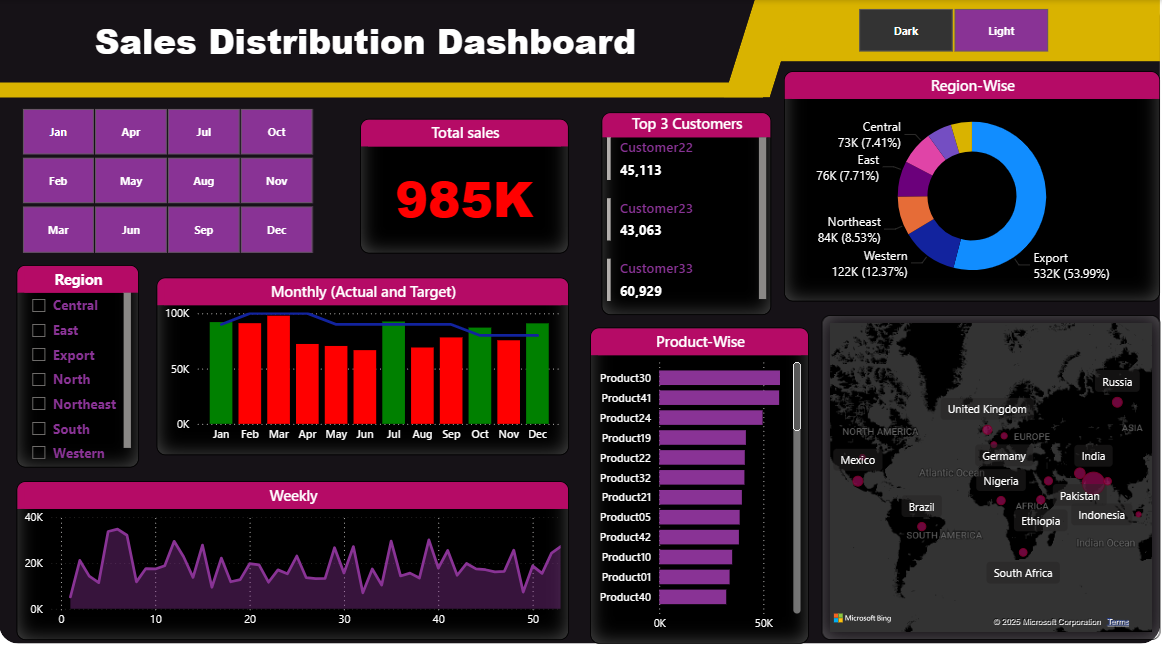

The page's visual inventory and layout, read from the dashboard file:
{"tool":"powerbi","page":{"name":"Page 1","canvas":[1280,720],"ordinal":0},"visuals":[{"type":"shape","box":[0,0,1274.8,706.7],"z":0},{"type":"shape","box":[0,0,838.4,98.8],"z":1000},{"type":"slicer","fields":{"Values":["InputData.Month Name"]},"box":[0,112.5,367.8,171.5],"z":2000},{"type":"slicer","title":"Region","fields":{"Values":["Country.Region"]},"box":[19.2,290.9,134.5,222.3],"z":3000},{"type":"card","title":"Total sales","fields":{"Values":["Sum(InputData.Actual)"]},"box":[396.6,130.4,229.2,148.2],"z":4000},{"type":"lineStackedColumnComboChart","title":"Monthly (Actual and Target)","fields":{"Category":["TargetData.Month Name"],"Y":["Sum(InputData.Actual)"],"Y2":["Sum(TargetData.Target ($))"]},"box":[172.9,304.6,452.8,194.9],"z":5000},{"type":"areaChart","title":"Weekly","fields":{"Category":["InputData.Week of Year"],"Y":["Sum(InputData.Actual)"]},"box":[19.2,528.3,606.5,174.3],"z":6000},{"type":"multiRowCard","title":"Top 3 Customers","fields":{"Values":["Country.Customer Name","Sum(InputData.Actual)"]},"box":[661.4,123.5,186.6,222.3],"z":7000},{"type":"clusteredBarChart","title":"Product-Wise","fields":{"Category":["InputData.PRODUCT"],"Y":["Sum(InputData.Actual)"]},"box":[649.1,359.5,240.1,347.2],"z":8000},{"type":"donutChart","title":"Region-Wise","fields":{"Category":["Country.Region"],"Y":["Sum(InputData.Actual)"]},"box":[861.8,78.2,413,252.5],"z":9000},{"type":"map","title":"Actual by Country","fields":{"Category":["Country.Country"],"Size":["Sum(InputData.Actual)"]},"box":[902.9,345.8,371.9,356.8],"z":10000},{"type":"shape","box":[0,90.6,838.4,16.5],"z":11000},{"type":"shape","box":[848,0,426.8,67.2],"z":12000},{"type":"shape","box":[795.9,0,83.7,107],"z":13000},{"type":"textbox","box":[100.2,13.7,632.6,64.5],"z":14000},{"type":"slicer","fields":{"Values":["Theme.Theme"]},"box":[918,2.7,258,60.4],"z":15000}]}

Visuals, with their boxes in screenshot pixels (x1, y1, x2, y2), scaled from the page's 1280x720 canvas onto the 1162x645 screenshot:
shape: (left=0, top=0, right=1157, bottom=633)
shape: (left=0, top=0, right=761, bottom=89)
slicer - InputData.Month Name: (left=0, top=101, right=334, bottom=254)
"Region" slicer: (left=17, top=261, right=140, bottom=460)
"Total sales" card: (left=360, top=117, right=568, bottom=250)
"Monthly (Actual and Target)" lineStackedColumnComboChart: (left=157, top=273, right=568, bottom=447)
"Weekly" areaChart: (left=17, top=473, right=568, bottom=629)
"Top 3 Customers" multiRowCard: (left=600, top=111, right=770, bottom=310)
"Product-Wise" clusteredBarChart: (left=589, top=322, right=807, bottom=633)
"Region-Wise" donutChart: (left=782, top=70, right=1157, bottom=296)
"Actual by Country" map: (left=820, top=310, right=1157, bottom=629)
shape: (left=0, top=81, right=761, bottom=96)
shape: (left=770, top=0, right=1157, bottom=60)
shape: (left=723, top=0, right=799, bottom=96)
textbox: (left=91, top=12, right=665, bottom=70)
slicer - Theme.Theme: (left=833, top=2, right=1068, bottom=57)
